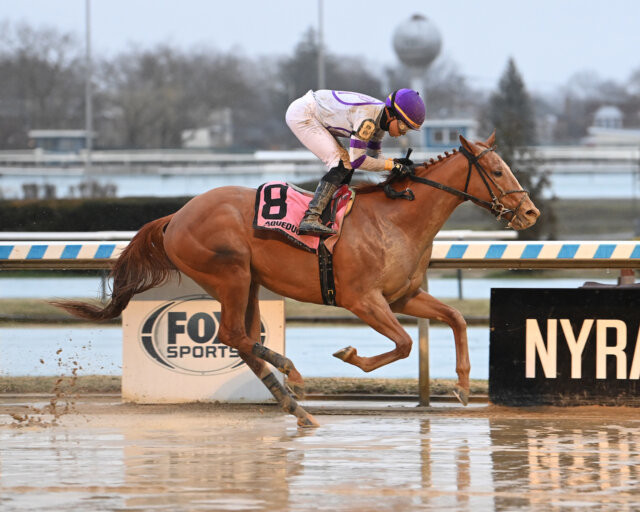horse: (44, 128, 544, 431)
